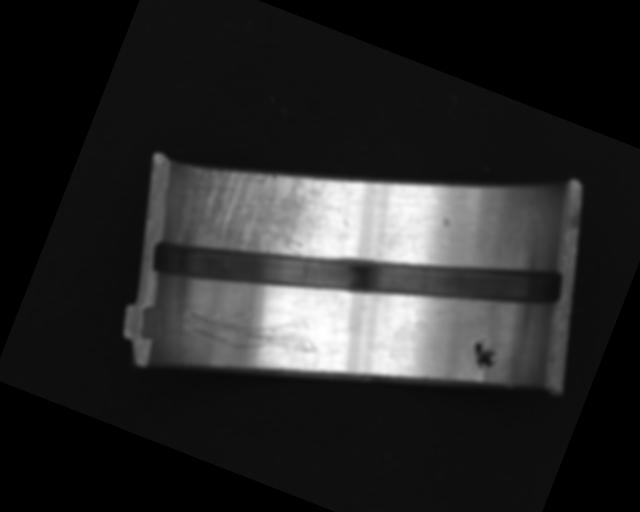blot: (467, 335, 503, 374)
bruise: (438, 216, 452, 230)
gap: (145, 130, 572, 412)
nick: (180, 282, 325, 379)
scratch: (160, 124, 353, 294)
